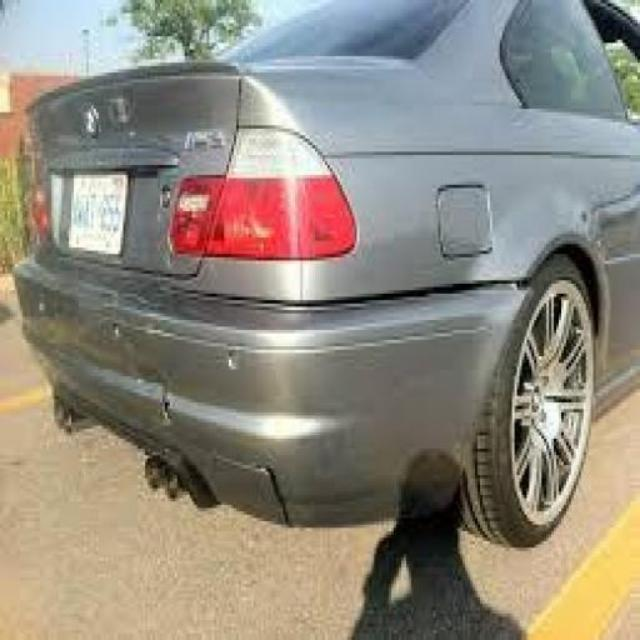crack: (146, 364, 188, 434)
dislocated part: (259, 269, 530, 333)
